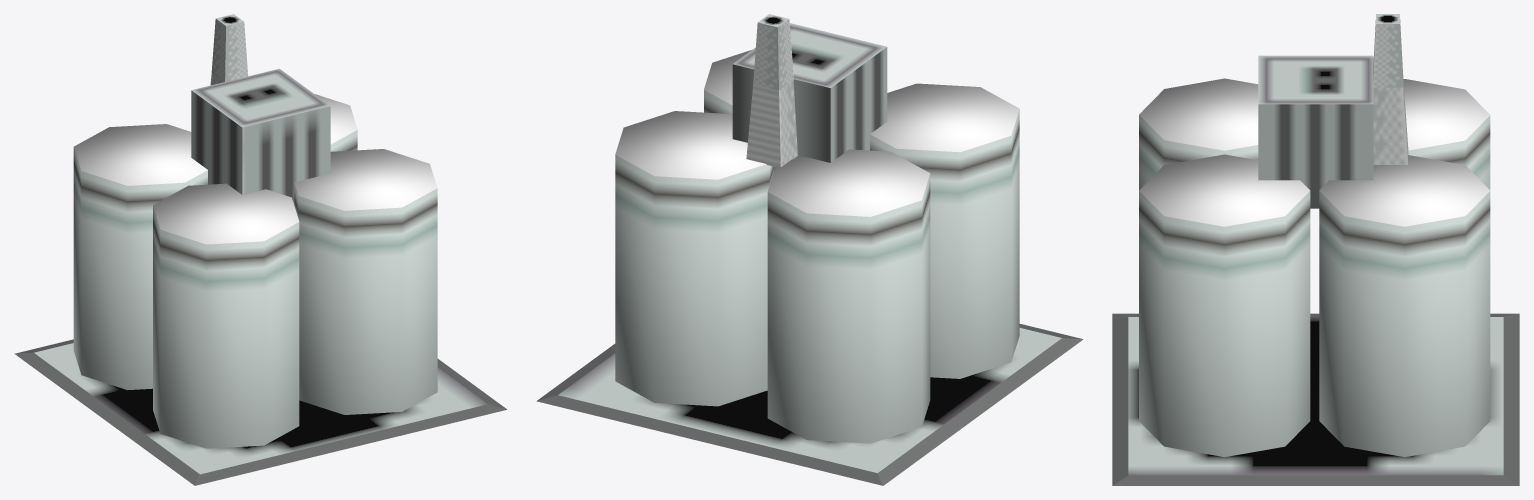
File: Bld_Oil_Refinery_Large04.fbx
3 renders of one model, left to right at view 1: azimuth 30°, elevation 25°; view 2: azimuth 150°, elevation 25°; view 3: azimuth 270°, elevation 25°, orthographic. The views are drawn at different scales.
Visible parts, largest first — view 1: BLD_OilRefinery_Large04; view 2: BLD_OilRefinery_Large04; view 3: BLD_OilRefinery_Large04.
Boxes of the visible parts, bbox=[...] form: BLD_OilRefinery_Large04: bbox=[14, 14, 506, 485]; BLD_OilRefinery_Large04: bbox=[536, 14, 1083, 485]; BLD_OilRefinery_Large04: bbox=[1112, 14, 1519, 485].
Size of the model in its own units: 789 by 789 by 815.
